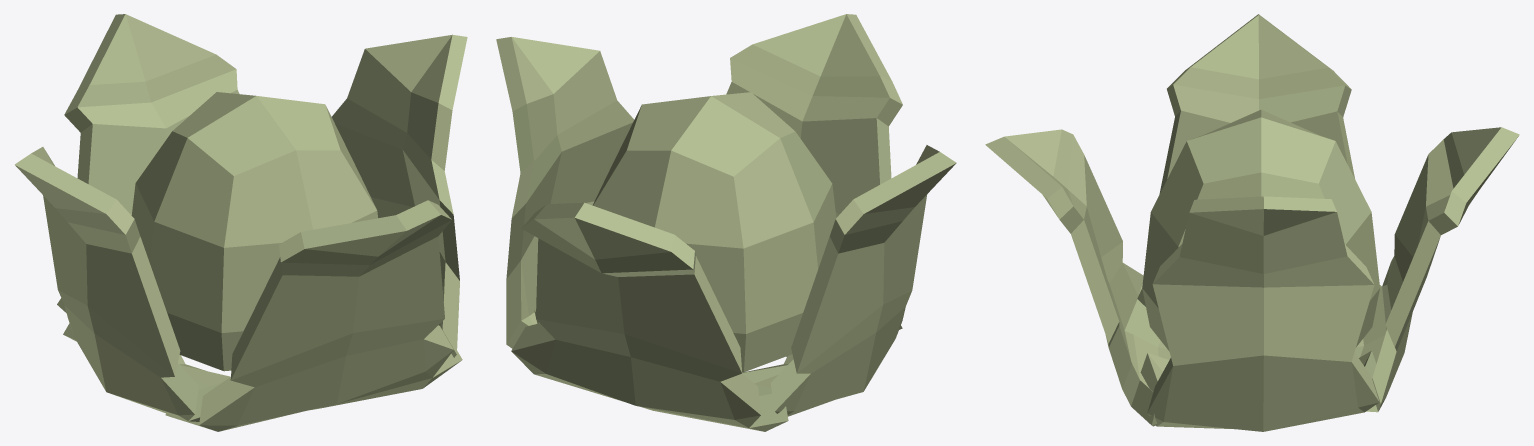
The model's file is lettuce_3.glb.
3 renders of one model, left to right at view 1: azimuth 30°, elevation 25°; view 2: azimuth 150°, elevation 25°; view 3: azimuth 270°, elevation 25°, orthographic. The views are drawn at different scales.
Visible parts, largest first — view 1: Lettuce_3; view 2: Lettuce_3; view 3: Lettuce_3.
Part boxes in pixels (box(x1,y1,x2,y2)): Lettuce_3: box(14, 14, 467, 431); Lettuce_3: box(496, 14, 956, 431); Lettuce_3: box(985, 14, 1519, 431).
Size of the model in its own units: 0.6231 by 0.3816 by 0.6764.
